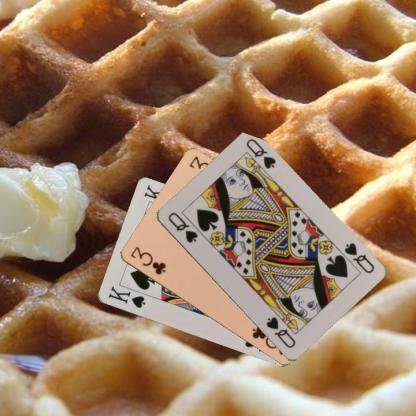3c: (128, 244, 167, 276)
Ks: (105, 283, 147, 310)
Qs: (341, 240, 375, 275), (164, 210, 198, 244)
